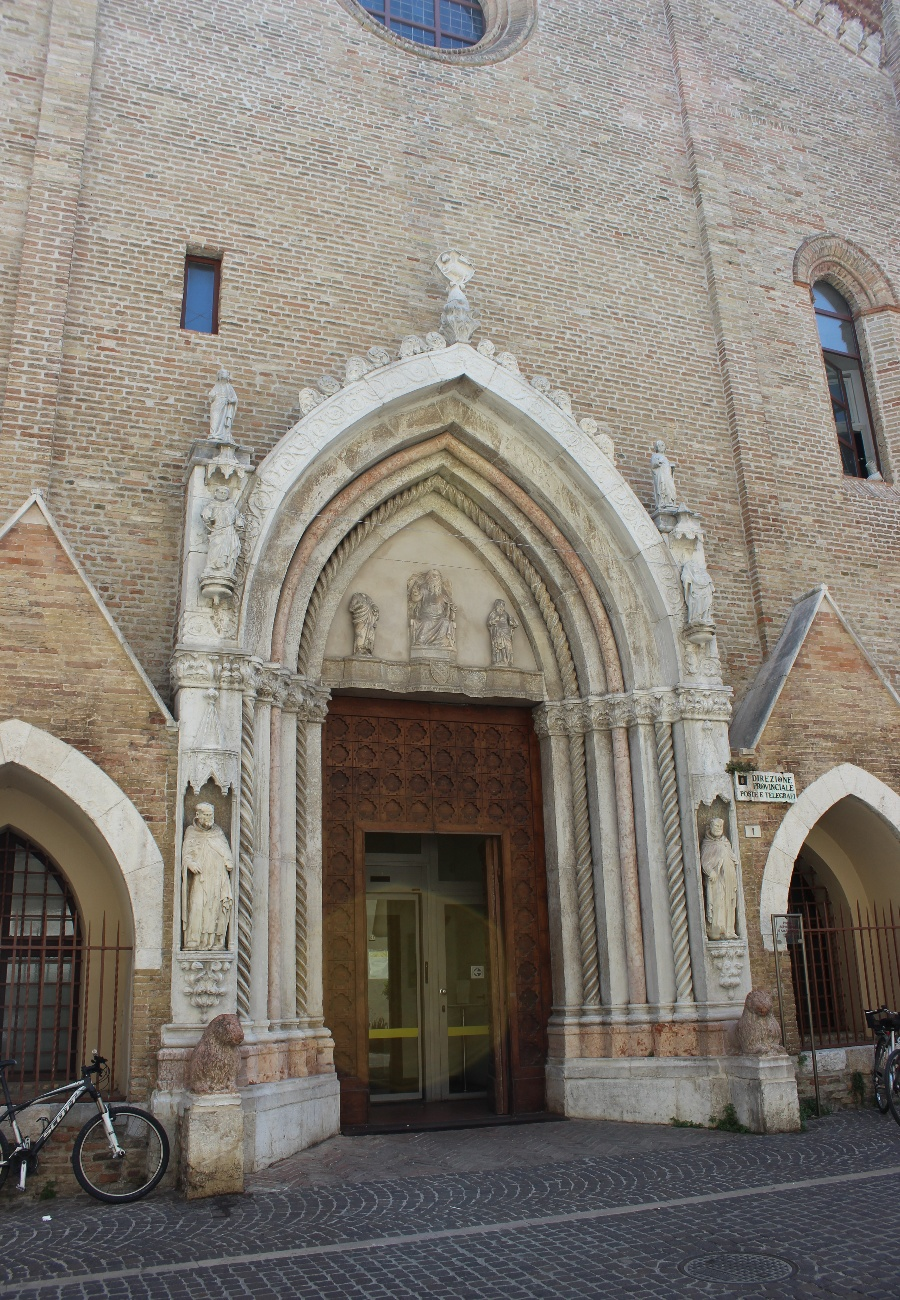Portale San Domenico: (147, 246, 802, 1201)
